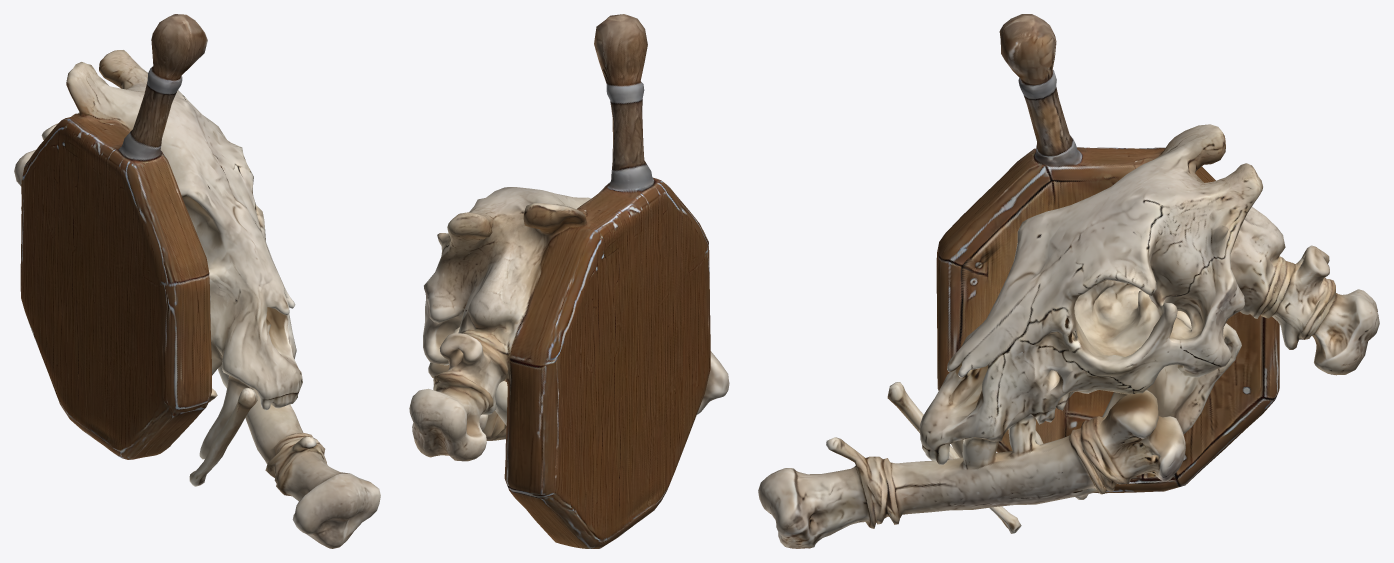
The model's file is rodin_f.glb.
3 views of the same model, side by side, from view 1: azimuth 30°, elevation 25°; view 2: azimuth 150°, elevation 25°; view 3: azimuth 270°, elevation 25° (orthographic). The views are drawn at different scales.
Parts seen in each view (by area): view 1: model; view 2: model; view 3: model.
Part boxes in pixels (x1=…): model: x1=14, y1=14, x2=380, y2=548; model: x1=409, y1=14, x2=729, y2=548; model: x1=758, y1=14, x2=1379, y2=548.
Size of the model in its own units: 0.6803 by 1.71 by 1.9.
Materials: 1 (1 with a texture image).
